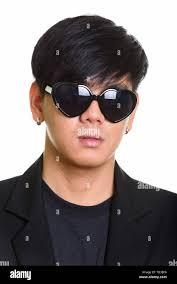sunglasses: (49, 75, 140, 123)
